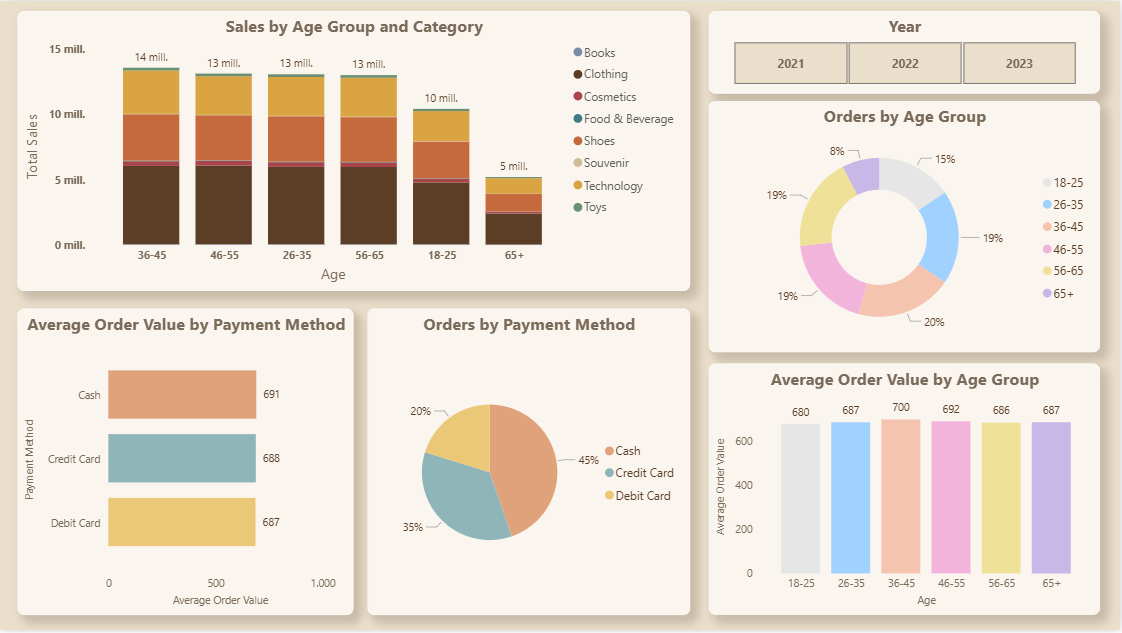

The dashboard page shown, as its layout file describes it:
{"tool":"powerbi","page":{"name":"CUSTOMERS","canvas":[1280,720],"ordinal":2},"visuals":[{"type":"slicer","title":"Year","fields":{"Values":["Calendar.Año"]},"box":[810,11.4,447.1,94.3],"z":0},{"type":"donutChart","title":"Orders by Age Group","fields":{"Category":["customer_shopping_clean.age_group"],"Y":["Medidas.% Orders by Age"]},"box":[810,114.3,447.1,287.1],"z":1000},{"type":"lineStackedColumnComboChart","title":"Sales by Age Group and Category","fields":{"Category":["customer_shopping_clean.age_group"],"Series":["customer_shopping_clean.category"],"Y":["Medidas.Total Sales"]},"box":[20,11.4,768.6,320],"z":2000},{"type":"lineStackedColumnComboChart","title":"Average Order Value by Age Group","fields":{"Category":["customer_shopping_clean.age_group"],"Y":["Medidas.Average Over Value"]},"box":[810,414.3,447.1,287.1],"z":3000},{"type":"pieChart","title":"Orders by Payment Method","fields":{"Category":["customer_shopping_clean.payment_method"],"Y":["Medidas.% Orders by Payment"]},"box":[420,351.4,368.6,350],"z":4000},{"type":"clusteredBarChart","title":"Average Order Value by Payment Method","fields":{"Category":["customer_shopping_clean.payment_method"],"Y":["Medidas.Average Over Value"]},"box":[20,351.4,384.3,350],"z":5000}]}

Visuals, with their boxes in screenshot pixels (x1, y1, x2, y2), scaled from the page's 1280x720 canvas onto the 1122x633 screenshot:
"Year" slicer: detection(710, 10, 1102, 93)
"Orders by Age Group" donutChart: detection(710, 100, 1102, 353)
"Sales by Age Group and Category" lineStackedColumnComboChart: detection(18, 10, 691, 291)
"Average Order Value by Age Group" lineStackedColumnComboChart: detection(710, 364, 1102, 617)
"Orders by Payment Method" pieChart: detection(368, 309, 691, 617)
"Average Order Value by Payment Method" clusteredBarChart: detection(18, 309, 354, 617)
